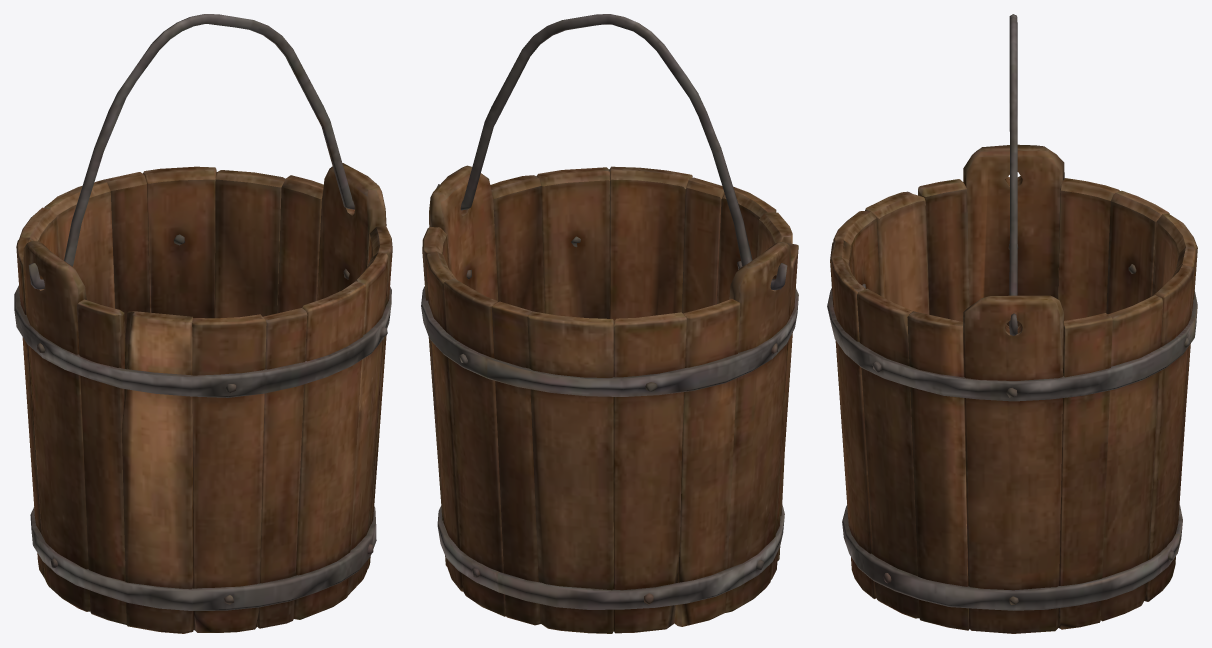
Rendered from wooden_bucket_01.glb.
3 views of the same model, side by side, from view 1: azimuth 30°, elevation 25°; view 2: azimuth 150°, elevation 25°; view 3: azimuth 270°, elevation 25° (orthographic).
Visible parts, largest first — view 1: wooden_bucket_01, wooden_bucket_01_handle; view 2: wooden_bucket_01, wooden_bucket_01_handle; view 3: wooden_bucket_01, wooden_bucket_01_handle.
Part boxes in pixels (<box>): wooden_bucket_01: <box>14,163,392,633</box>; wooden_bucket_01_handle: <box>28,14,376,289</box>; wooden_bucket_01: <box>421,165,798,633</box>; wooden_bucket_01_handle: <box>436,14,787,290</box>; wooden_bucket_01: <box>827,144,1197,633</box>; wooden_bucket_01_handle: <box>1009,14,1017,335</box>.
Bounding box in the file's own units: 0.3663 × 0.5499 × 0.3419.
1 material, 1 textured.
